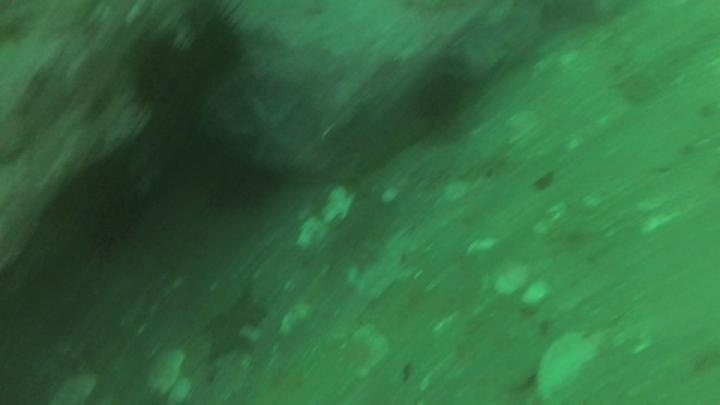echinus: (62, 164, 147, 257), (188, 138, 279, 215), (126, 33, 208, 112), (182, 10, 249, 80), (409, 66, 471, 128)
scallop: (534, 330, 603, 403), (143, 345, 185, 395)
starfish: (200, 281, 269, 361)
